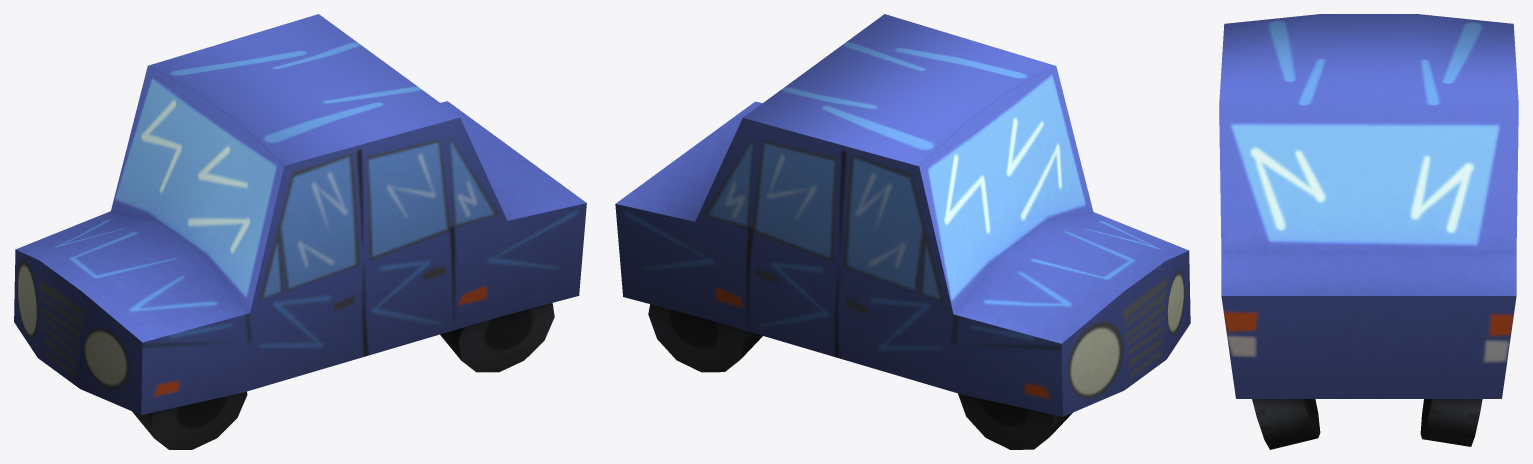
Rendered from car_blu.FBX.
3 views of the same model, side by side, from view 1: azimuth 30°, elevation 25°; view 2: azimuth 150°, elevation 25°; view 3: azimuth 270°, elevation 25° (orthographic). The views are drawn at different scales.
Visible parts, largest first — view 1: car_blu; view 2: car_blu; view 3: car_blu.
Part boxes in pixels (<box>): car_blu: <box>14,14,586,449</box>; car_blu: <box>615,14,1190,449</box>; car_blu: <box>1219,14,1518,449</box>.
Size of the model in its own units: 16 by 9.68 by 8.55.
1 material, 1 textured.
